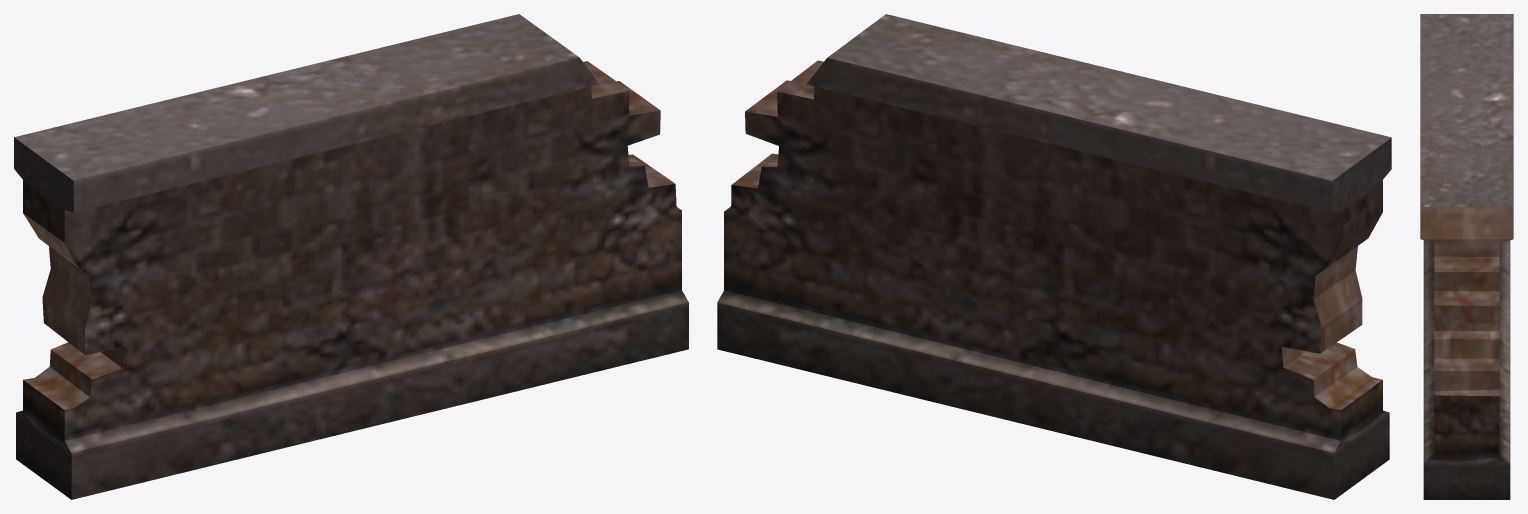
File: SM_zhucheng_canqiang01.FBX
The picture shows the model from 3 angles, left to right: view 1: azimuth 30°, elevation 25°; view 2: azimuth 150°, elevation 25°; view 3: azimuth 270°, elevation 25°; orthographic projection. The views are drawn at different scales.
Visible parts, largest first — view 1: SM_zhucheng_canqiang01; view 2: SM_zhucheng_canqiang01; view 3: SM_zhucheng_canqiang01.
Part boxes in pixels (x1,y1,x2,y2): SM_zhucheng_canqiang01: (14, 14, 688, 499); SM_zhucheng_canqiang01: (717, 14, 1391, 499); SM_zhucheng_canqiang01: (1420, 14, 1513, 499).
Bounding box in the file's own units: 677 × 336 × 113.
